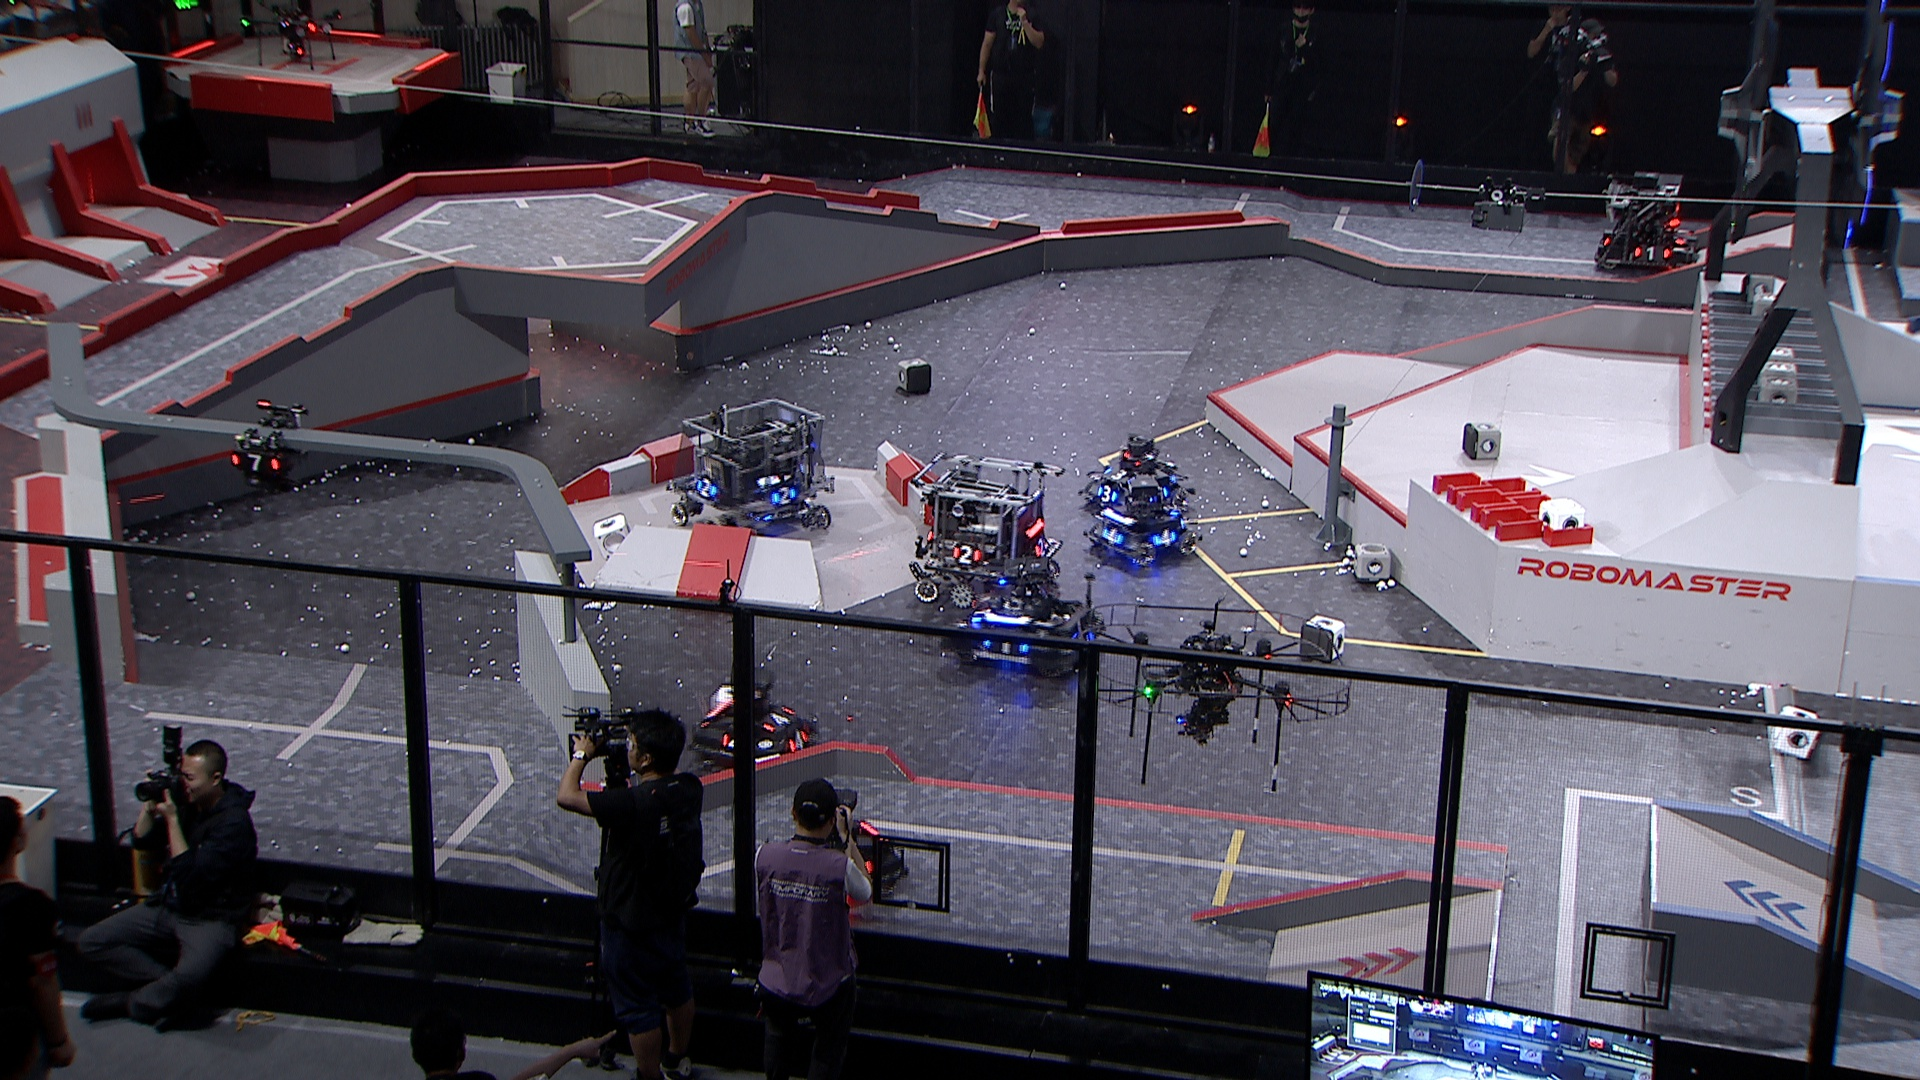armor: (229, 450, 282, 471), (761, 704, 796, 733), (982, 637, 1031, 657), (1633, 244, 1669, 262), (785, 728, 808, 756), (949, 545, 982, 564), (694, 475, 717, 501), (771, 485, 800, 506), (1098, 527, 1126, 547), (1150, 527, 1178, 547), (971, 600, 994, 622), (1101, 465, 1131, 483), (1096, 484, 1117, 505), (1034, 537, 1050, 559)
car: (905, 446, 1068, 608), (661, 396, 837, 543), (944, 556, 1097, 678), (773, 785, 910, 906), (686, 665, 822, 775), (1084, 471, 1201, 568), (1077, 433, 1197, 526), (1594, 166, 1695, 272)
watcher: (229, 400, 311, 498)
